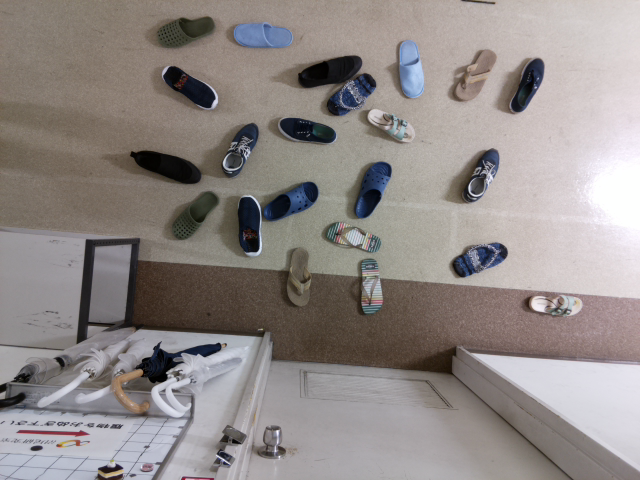Copy of Copy of Copy of Copy of Copy of Copy of Copy of Copy of Copy of Copy of: (501, 52, 548, 117), (451, 45, 499, 103), (322, 70, 379, 118), (297, 54, 366, 93), (220, 119, 262, 181)
Copy of Copy of Copy of Copy of Copy of Copy of Copy of Copy of Copy of shoe: (455, 143, 503, 205), (263, 180, 321, 224), (395, 37, 429, 101)
Copy of Copy of Copy of Copy of Copy of Copy of Copy of Copy of shoe: (351, 158, 398, 222), (319, 218, 385, 254)
Copy of Copy of Copy of Copy of Copy of Copy of Copy of shoe: (274, 112, 339, 150)
Copy of Copy of Copy of Copy of Copy of Copy of shoe: (230, 17, 295, 54)
Copy of Copy of Copy of Copy of Copy of shoe: (363, 105, 417, 146)
Copy of Copy of Copy of Copy of shoe: (152, 10, 217, 51), (450, 239, 510, 282)
Copy of Copy of Copy of shoe: (159, 63, 224, 115), (525, 289, 583, 322)
Copy of Copy of shoe: (128, 146, 202, 192), (358, 253, 385, 318)
Copy of shoe: (169, 187, 224, 243), (283, 246, 314, 311)
shoe: (231, 192, 264, 261)
